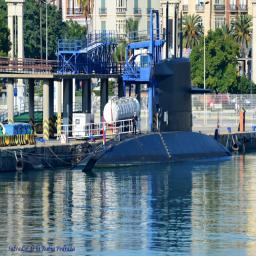submarine: (74, 8, 238, 173)
